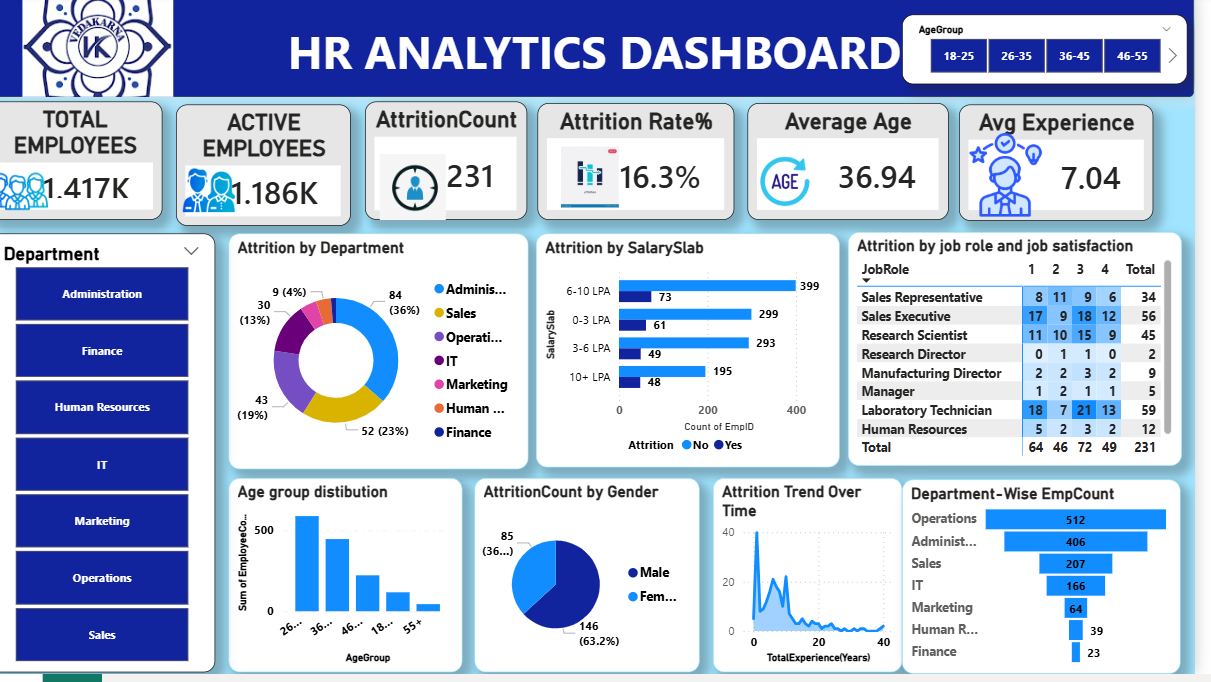

Layout of this report page (visuals, bound fields, positions):
{"tool":"powerbi","page":{"name":"Page 1","canvas":[1280,720],"ordinal":0},"visuals":[{"type":"textbox","box":[9.5,0,1269.9,107.9],"z":0},{"type":"image","box":[9.5,0,215.8,107.9],"z":1000},{"type":"cardVisual","title":"TOTAL EMPLOYEES","fields":{"Data":["CountNonNull(HR_Analytics-4.EmpID)"]},"box":[0,112.9,186.1,125.7],"z":2000},{"type":"cardVisual","title":"ACTIVE EMPLOYEES","fields":{"Data":["CountNonNull(HR_Analytics-4.EmployeeCount)"]},"box":[200.6,115.4,185.5,128.7],"z":3000},{"type":"cardVisual","title":"AttritionCount","fields":{"Data":["Sum(HR_Analytics-4.AttritionCount)"]},"box":[400.8,112.9,171.8,125.7],"z":4000},{"type":"cardVisual","title":"Attrition Rate%","fields":{"Data":["HR_Analytics-4.Attrition Rate %"]},"box":[583.8,114.5,208.4,124.1],"z":5000},{"type":"cardVisual","title":"Average Age","fields":{"Data":["Avg(HR_Analytics-4.Age)"]},"box":[806.4,114.5,213.1,124.1],"z":6000},{"type":"cardVisual","title":"Avg Experience","fields":{"Data":["Avg(HR_Analytics-4.YearsatCompany)"]},"box":[1031.5,115.4,206.3,123],"z":7000},{"type":"image","box":[386.1,168.4,130.6,70],"z":8000},{"type":"image","box":[564,160.9,149.5,64.3],"z":9000},{"type":"image","box":[1014.4,145.7,130.6,89],"z":10000},{"type":"image","box":[806.2,160.9,79.5,73.8],"z":11000},{"type":"image","box":[0,170.3,64.3,75.7],"z":12000},{"type":"image","box":[194.9,179.8,79.5,54.9],"z":13000},{"type":"donutChart","title":"Attrition by Department","fields":{"Y":["Sum(HR_Analytics-4.AttritionCount)"],"Category":["HR_Analytics-4.Department"]},"box":[255.5,253.6,318,249.8],"z":14000},{"type":"clusteredBarChart","title":" Attrition  by SalarySlab","fields":{"Category":["HR_Analytics-4.SalarySlab"],"Y":["CountNonNull(HR_Analytics-4.EmpID)"],"Series":["HR_Analytics-4.Attrition"]},"box":[582.9,253.6,321.7,247.9],"z":15000},{"type":"pivotTable","title":"Attrition by job role and job satisfaction","fields":{"Rows":["HR_Analytics-4.JobRole"],"Columns":["HR_Analytics-4.JobSatisfaction"],"Values":["Sum(HR_Analytics-4.AttritionCount)"]},"box":[912.2,251.7,353.9,247.9],"z":16000},{"type":"columnChart","title":"Age group distibution","fields":{"Category":["HR_Analytics-4.AgeGroup"],"Y":["Sum(HR_Analytics-4.EmployeeCount)"]},"box":[255.5,512.9,247.9,206.3],"z":17000},{"type":"pieChart","title":" AttritionCount by Gender","fields":{"Category":["HR_Analytics-4.Gender"],"Y":["Sum(HR_Analytics-4.AttritionCount)"]},"box":[516.7,512.9,238.5,206.3],"z":18000},{"type":"areaChart","title":"Attrition Trend Over Time","fields":{"Y":["Sum(HR_Analytics-4.AttritionCount)"],"Category":["HR_Analytics-4.TotalExperience(Years)"]},"box":[770.3,512.9,200.6,206.3],"z":19000},{"type":"funnel","title":"Department-Wise EmpCount","fields":{"Category":["HR_Analytics-4.Department"],"Y":["CountNonNull(HR_Analytics-4.EmpID)"]},"box":[971,513,295,206],"z":20000},{"type":"slicer","fields":{"Values":["HR_Analytics-4.Department"]},"box":[0,253.6,242.2,465.6],"z":20001},{"type":"slicer","fields":{"Values":["HR_Analytics-4.AgeGroup"]},"box":[970.9,20.8,302.8,73.8],"z":20002}]}

Visuals, with their boxes in screenshot pixels (x1, y1, x2, y2), scaled from the page's 1280x720 canvas onto the 1211x682 screenshot:
textbox: bbox=(9, 0, 1210, 102)
image: bbox=(9, 0, 213, 102)
"TOTAL EMPLOYEES" cardVisual: bbox=(0, 107, 176, 226)
"ACTIVE EMPLOYEES" cardVisual: bbox=(190, 109, 365, 231)
"AttritionCount" cardVisual: bbox=(379, 107, 542, 226)
"Attrition Rate%" cardVisual: bbox=(552, 108, 749, 226)
"Average Age" cardVisual: bbox=(763, 108, 965, 226)
"Avg Experience" cardVisual: bbox=(976, 109, 1171, 226)
image: bbox=(365, 160, 489, 226)
image: bbox=(534, 152, 675, 213)
image: bbox=(960, 138, 1083, 222)
image: bbox=(763, 152, 838, 222)
image: bbox=(0, 161, 61, 233)
image: bbox=(184, 170, 260, 222)
"Attrition by Department" donutChart: bbox=(242, 240, 543, 477)
" Attrition  by SalarySlab" clusteredBarChart: bbox=(551, 240, 856, 475)
"Attrition by job role and job satisfaction" pivotTable: bbox=(863, 238, 1198, 473)
"Age group distibution" columnChart: bbox=(242, 486, 476, 681)
" AttritionCount by Gender" pieChart: bbox=(489, 486, 714, 681)
"Attrition Trend Over Time" areaChart: bbox=(729, 486, 919, 681)
"Department-Wise EmpCount" funnel: bbox=(919, 486, 1198, 681)
slicer - HR_Analytics-4.Department: bbox=(0, 240, 229, 681)
slicer - HR_Analytics-4.AgeGroup: bbox=(919, 20, 1205, 90)
